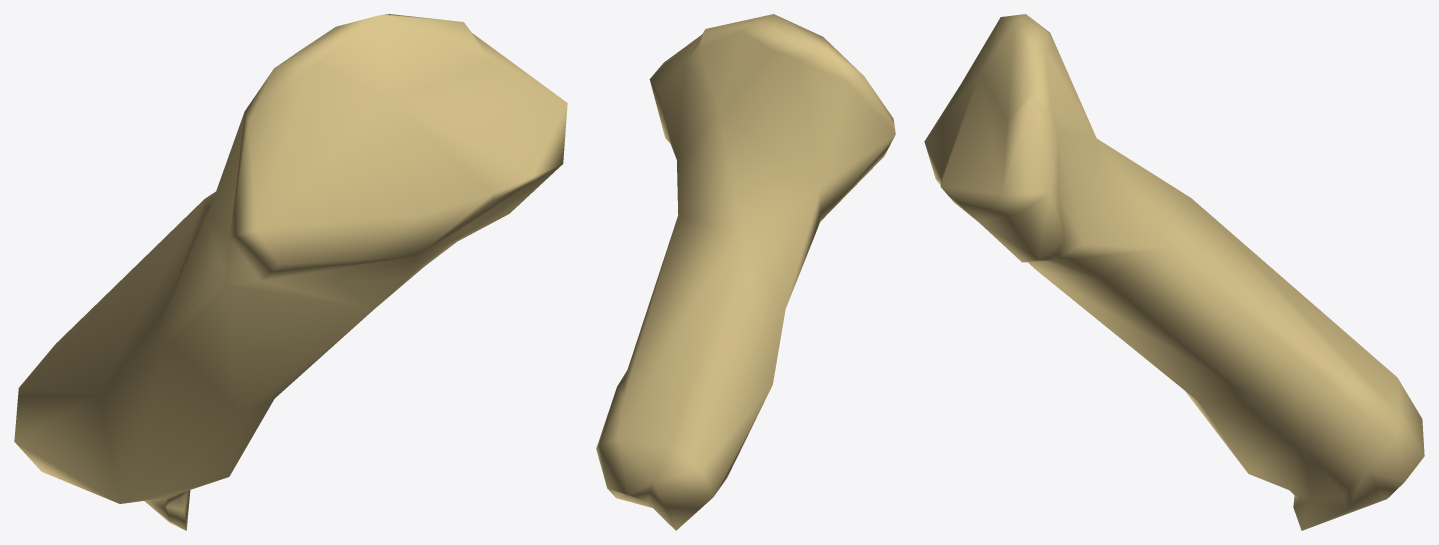
3 views of the same model, side by side, from view 1: azimuth 30°, elevation 25°; view 2: azimuth 150°, elevation 25°; view 3: azimuth 270°, elevation 25° (orthographic). The views are drawn at different scales.
Visible parts, largest first — view 1: 左侧第五指远节指骨; view 2: 左侧第五指远节指骨; view 3: 左侧第五指远节指骨.
Boxes of the visible parts, bbox=[...] form: 左侧第五指远节指骨: bbox=[14, 14, 567, 530]; 左侧第五指远节指骨: bbox=[596, 14, 895, 530]; 左侧第五指远节指骨: bbox=[924, 14, 1424, 530].
Size of the model in its own units: 0.0126 by 0.0218 by 0.0194.
